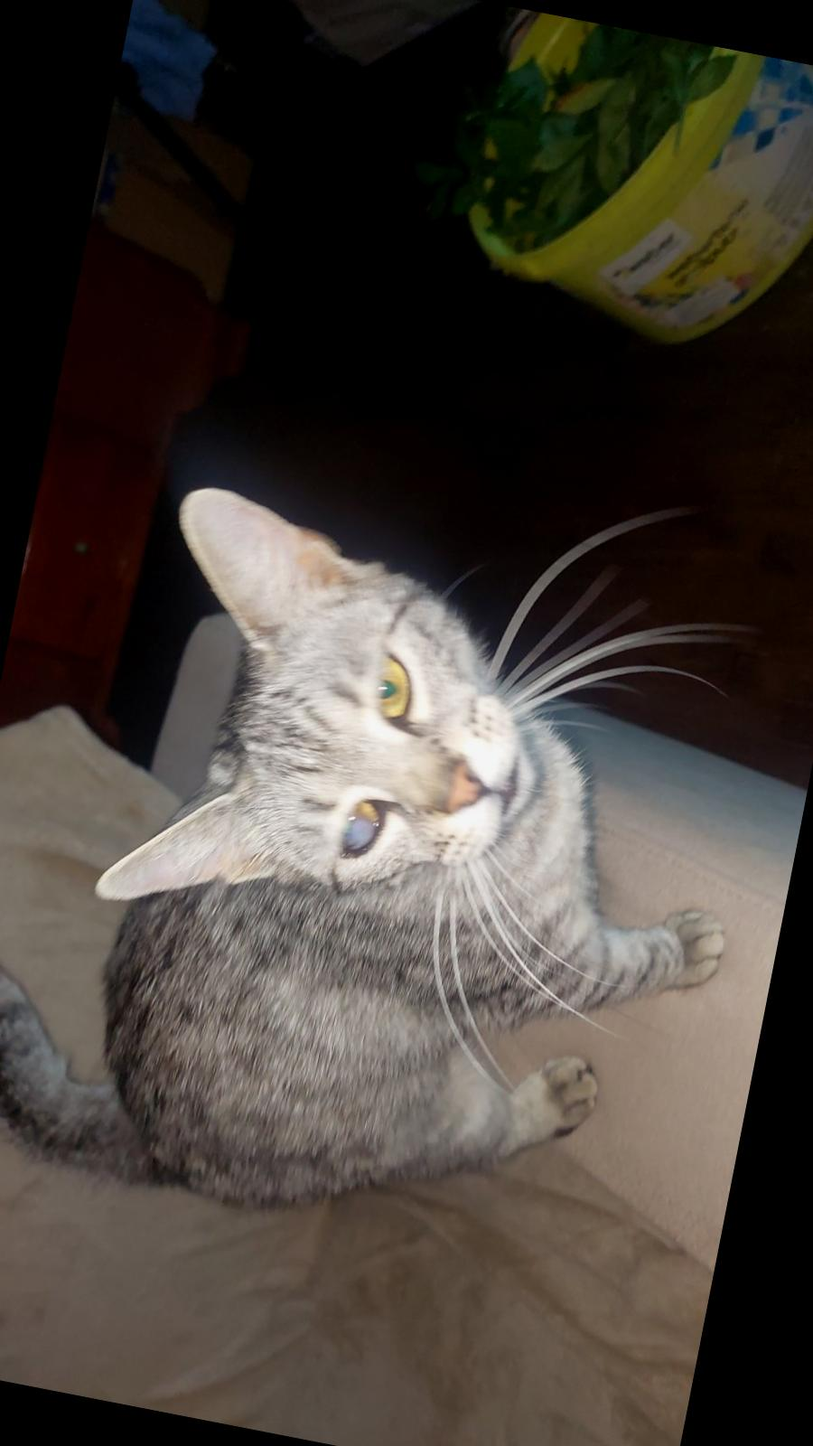macka: (0, 446, 802, 1294)
